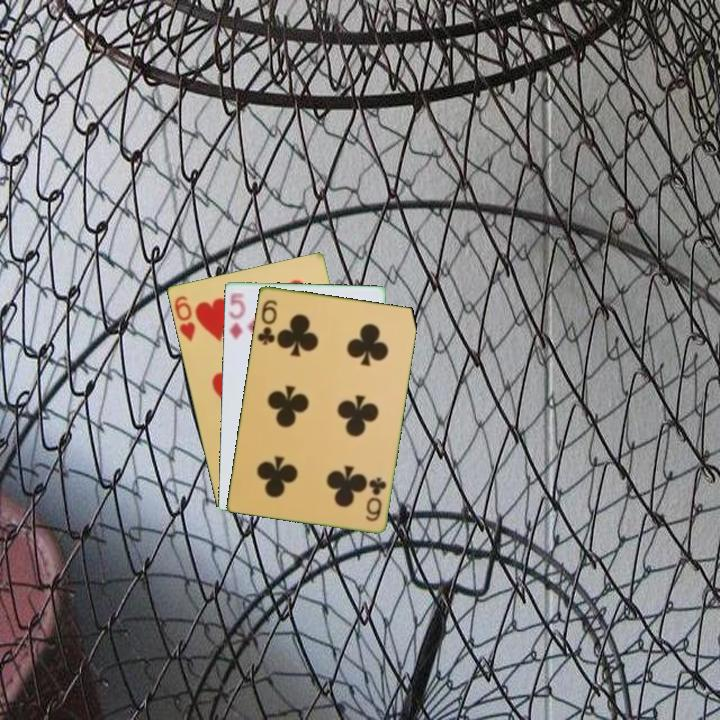5d: (225, 288, 248, 342)
6c: (362, 473, 389, 524), (254, 296, 280, 348)
6h: (170, 292, 198, 344)
